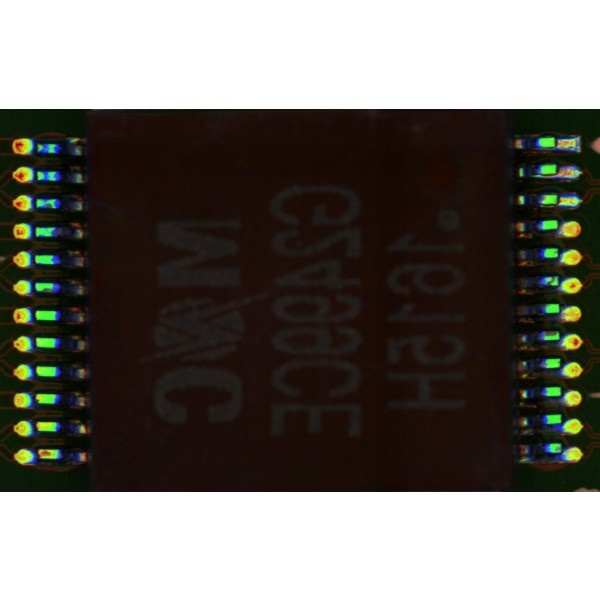Bad_podu: (549, 140, 564, 147), (552, 197, 566, 204)
Bad_qiaojiao: (532, 175, 558, 179)
